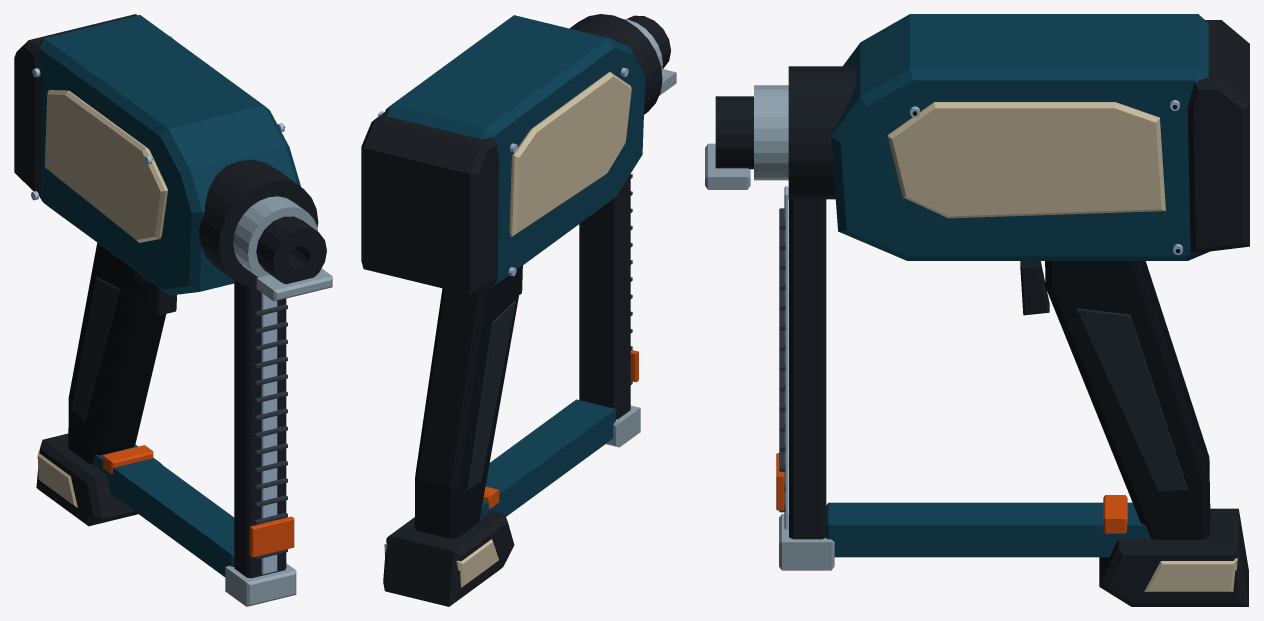
Rendered from NailgunBlue_Normal.obj.
3 views of the same model, side by side, from view 1: azimuth 30°, elevation 25°; view 2: azimuth 150°, elevation 25°; view 3: azimuth 270°, elevation 25° (orthographic). The views are drawn at different scales.
Visible parts, largest first — view 1: PetrolBlue, FrameBlack, Ivory, Rubber, MachinedSteel, Steel, GripRings, Graphite, LatchOrange; view 2: FrameBlack, PetrolBlue, Rubber, Ivory, GripRings, MachinedSteel, LatchOrange; view 3: PetrolBlue, FrameBlack, Ivory, Rubber, GripRings, MachinedSteel, Steel, Graphite, LatchOrange.
Part boxes in pixels (box(x1,y1,x2,y2)): PetrolBlue: box(38, 15, 300, 576); FrameBlack: box(14, 14, 326, 578); Ivory: box(37, 90, 167, 507); Rubber: box(38, 38, 285, 464); MachinedSteel: box(225, 196, 332, 606); Steel: box(31, 36, 284, 574); GripRings: box(71, 277, 120, 420); Graphite: box(254, 304, 287, 559); LatchOrange: box(102, 445, 294, 557); FrameBlack: box(361, 14, 670, 606); PetrolBlue: box(385, 15, 645, 519); Rubber: box(378, 70, 621, 538); Ivory: box(384, 72, 631, 587); GripRings: box(467, 300, 515, 489); MachinedSteel: box(606, 19, 676, 447); LatchOrange: box(483, 350, 638, 508); PetrolBlue: box(826, 14, 1209, 557); FrameBlack: box(715, 20, 1249, 606); Ivory: box(887, 102, 1237, 591); Rubber: box(912, 105, 1210, 539); GripRings: box(1076, 308, 1187, 491); MachinedSteel: box(705, 85, 834, 570); Steel: box(784, 100, 1182, 529); Graphite: box(779, 208, 785, 512); LatchOrange: box(776, 453, 1127, 533).
Size of the model in its own units: 0.183 by 0.597 by 0.5385.
